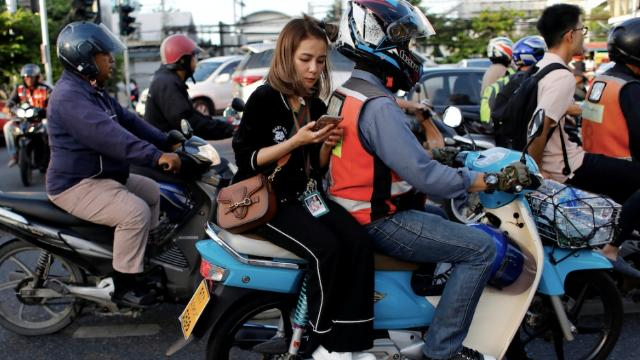helm: (334, 2, 439, 91), (58, 21, 127, 79), (160, 35, 207, 80), (606, 16, 640, 77), (512, 35, 550, 73), (487, 36, 518, 67), (20, 63, 45, 93)
motor: (162, 105, 624, 360), (1, 119, 225, 340), (2, 104, 49, 191)
non-helm: (268, 14, 334, 96), (540, 5, 589, 60)
